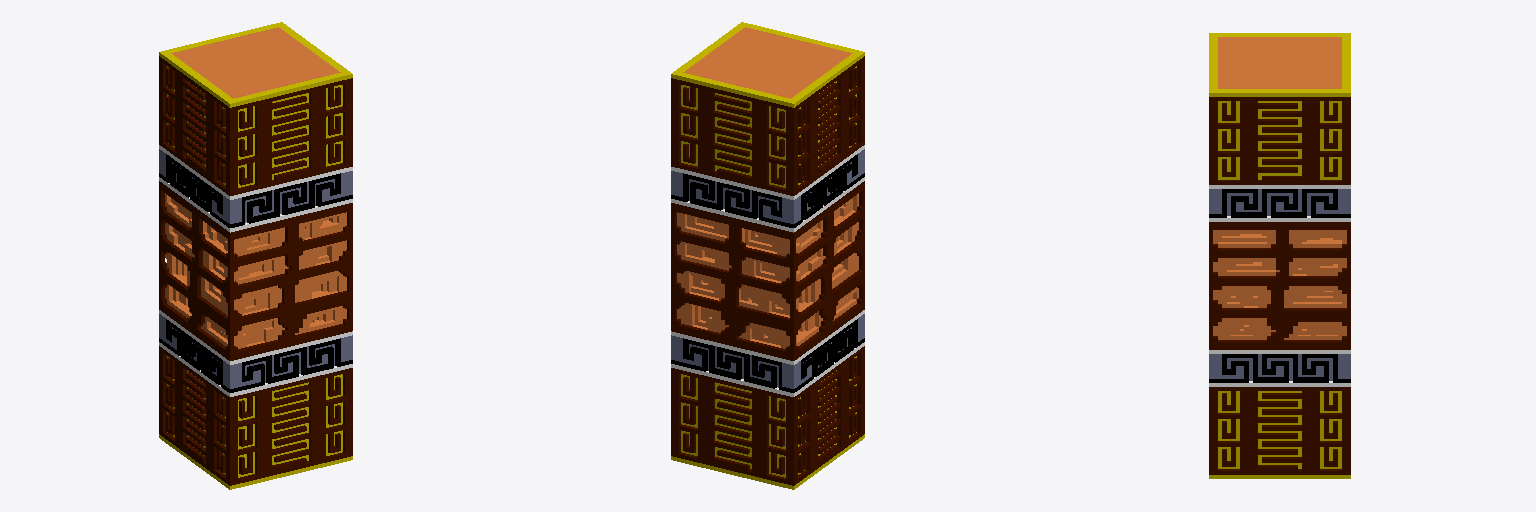
The picture shows the model from 3 angles: view 1: azimuth 30°, elevation 25°; view 2: azimuth 150°, elevation 25°; view 3: azimuth 270°, elevation 25°; orthographic projection.
Bounding box in the file's own units: 32 × 96 × 32.
Materials: 1 (1 with a texture image).